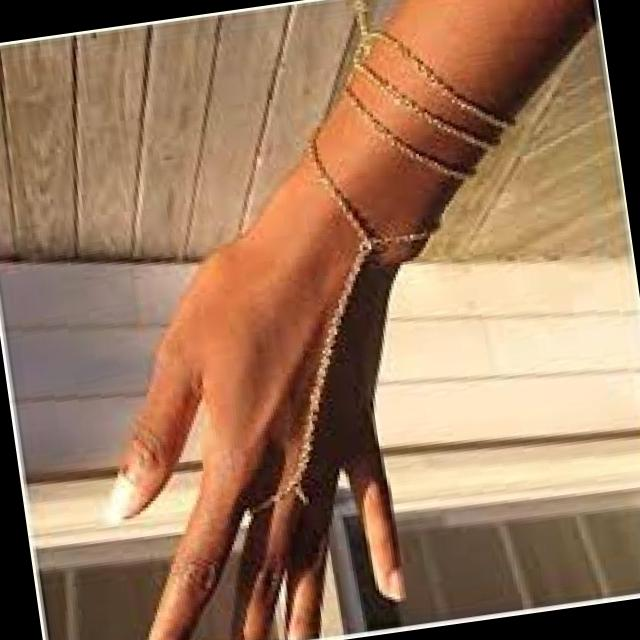Nail: (106, 472, 134, 524), (379, 568, 404, 599)
